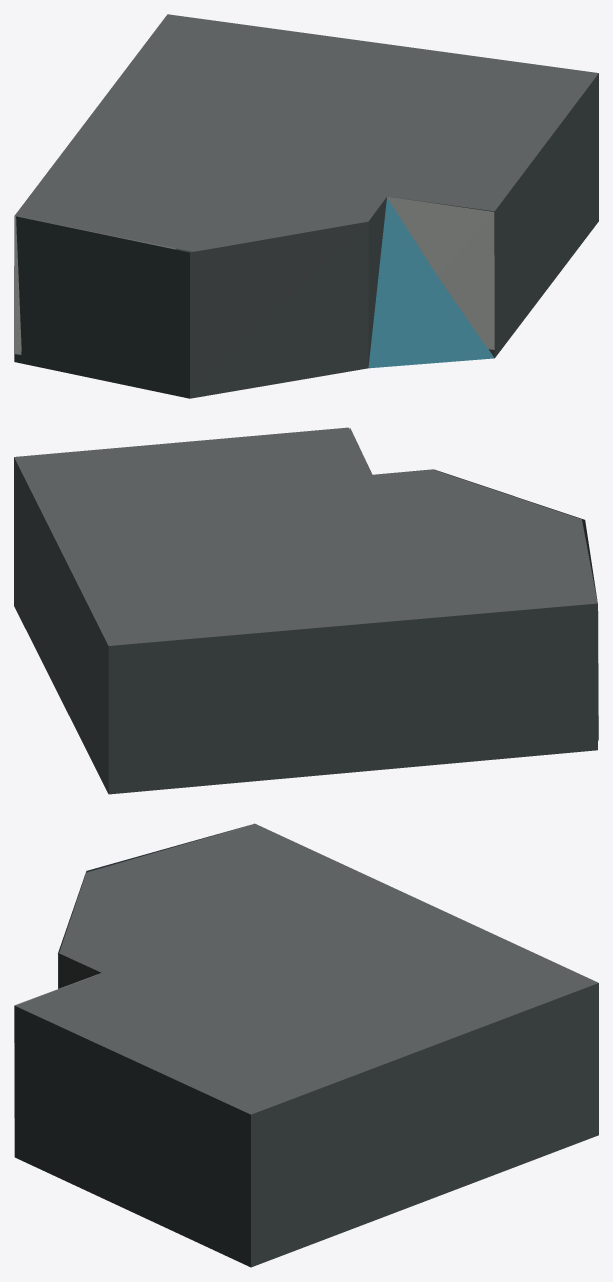
Rendered from haparandaweg-9.lod2.glb.
3 views of the same model, one above another, from view 1: azimuth 30°, elevation 25°; view 2: azimuth 150°, elevation 25°; view 3: azimuth 270°, elevation 25° (orthographic). The views are drawn at different scales.
Parts seen in each view (by area): view 1: lod2; view 2: lod2; view 3: lod2.
Part boxes in pixels (x1,y1,x2,y2): lod2: (14, 14, 598, 398); lod2: (14, 427, 598, 794); lod2: (14, 823, 598, 1267).
Bounding box in the file's own units: 30 × 7.28 × 25.25.
